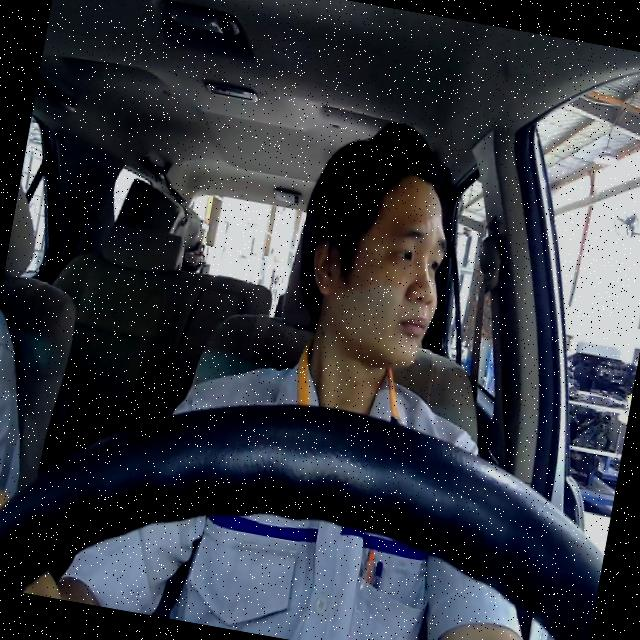seeing_right: (293, 154, 460, 375)
